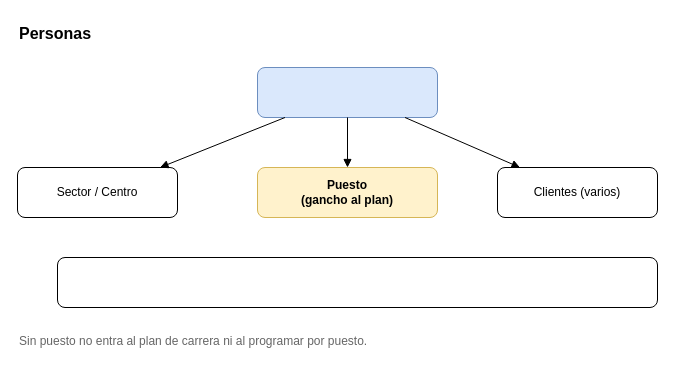
Some shapes in this 675 by 374 pixel diagram are drawn without their labels. The centre of each missing label's shape, as x and y in pixels:
"Clic en la fila → legajo: foto, plan del puesto, matriz, PDF, editar" belongs at (x=357, y=282).
"Persona nombre + legajo" belongs at (x=347, y=92).
